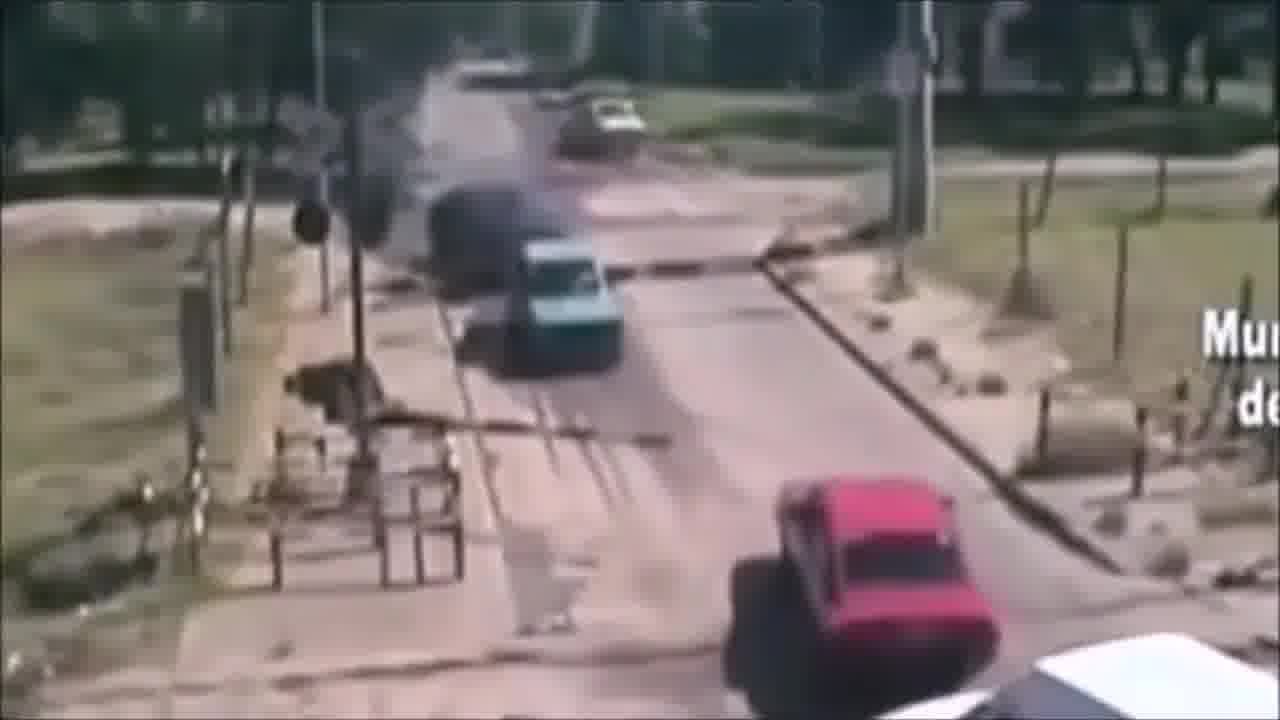crossing railway track: (742, 438, 1050, 720)
